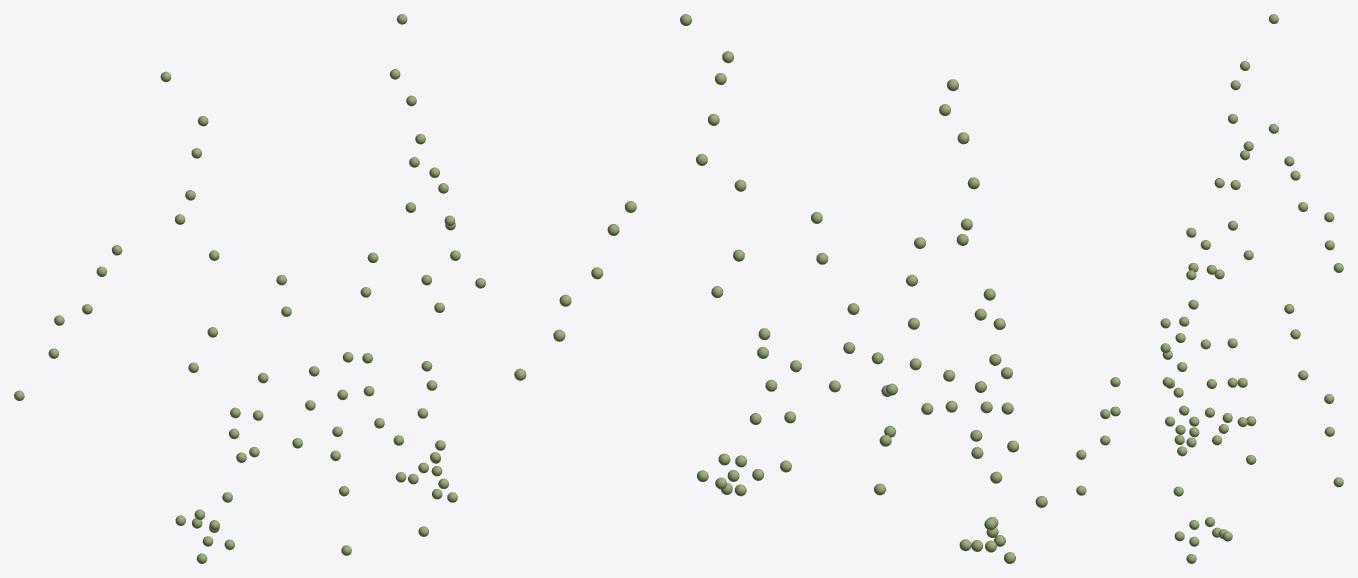
Rendered from detail-lymphatic-neck.glb.
3 views of the same model, side by side, from view 1: azimuth 30°, elevation 25°; view 2: azimuth 150°, elevation 25°; view 3: azimuth 270°, elevation 25° (orthographic). The views are drawn at different scales.
Parts seen in each view (by area): view 1: za-229bcd0641e77fd1, za-4b1fc9e32a9598eb, za-07457ac5e7bdec92, za-349a9e897667e7e4, za-e616eec08fe64545; view 2: za-349a9e897667e7e4, za-4b1fc9e32a9598eb, za-f2ff609354188b6b, za-07457ac5e7bdec92, za-229bcd0641e77fd1, za-e616eec08fe64545; view 3: za-e616eec08fe64545, za-229bcd0641e77fd1, za-f2ff609354188b6b, za-07457ac5e7bdec92, za-349a9e897667e7e4, za-4b1fc9e32a9598eb, za-8781068168f5bd17, za-6cca57234aa2d84a, za-07e6ba0a5f413525, za-c01481b0aee9d1bf, za-45e4623ed572f371.
Part boxes in pixels (bbox=[...]): za-229bcd0641e77fd1: bbox=[417, 275, 445, 450]; za-4b1fc9e32a9598eb: bbox=[249, 352, 353, 457]; za-07457ac5e7bdec92: bbox=[188, 327, 246, 502]; za-349a9e897667e7e4: bbox=[14, 245, 122, 400]; za-e616eec08fe64545: bbox=[330, 435, 428, 555]; za-349a9e897667e7e4: bbox=[983, 288, 1047, 507]; za-4b1fc9e32a9598eb: bbox=[780, 360, 897, 495]; za-f2ff609354188b6b: bbox=[514, 201, 636, 380]; za-07457ac5e7bdec92: bbox=[970, 308, 1002, 483]; za-229bcd0641e77fd1: bbox=[711, 249, 777, 424]; za-e616eec08fe64545: bbox=[871, 352, 983, 458]; za-e616eec08fe64545: bbox=[1076, 377, 1120, 495]; za-229bcd0641e77fd1: bbox=[1173, 339, 1216, 496]; za-f2ff609354188b6b: bbox=[1284, 304, 1343, 487]; za-07457ac5e7bdec92: bbox=[1173, 240, 1216, 397]; za-349a9e897667e7e4: bbox=[1284, 156, 1343, 272]; za-4b1fc9e32a9598eb: bbox=[1227, 338, 1256, 464]; za-8781068168f5bd17: bbox=[1214, 150, 1253, 279]; za-6cca57234aa2d84a: bbox=[1214, 61, 1253, 188]; za-07e6ba0a5f413525: bbox=[1174, 416, 1199, 447]; za-c01481b0aee9d1bf: bbox=[1174, 520, 1199, 563]; za-45e4623ed572f371: bbox=[1205, 407, 1232, 445].
Bounding box in the file's own units: 0.1306 × 0.1215 × 0.0676.
